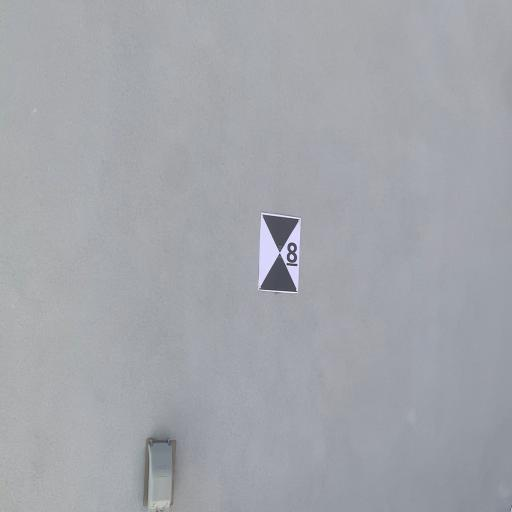target8: (260, 216, 302, 294)
